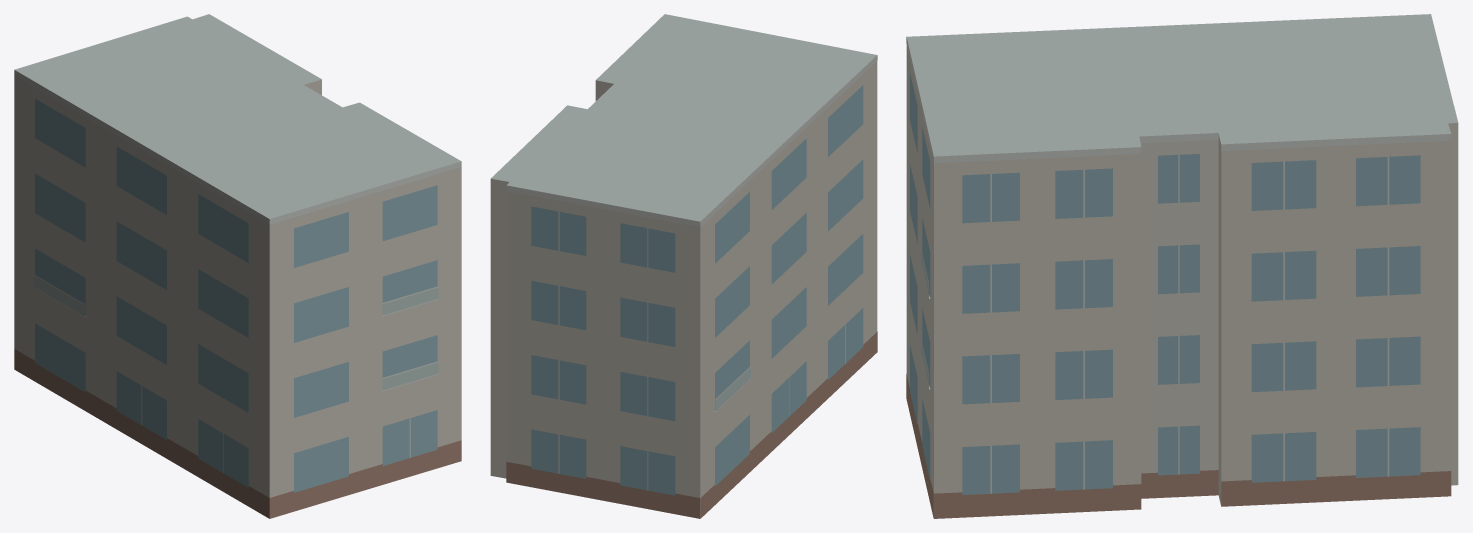
The model's file is survey-upis-32622038.glb.
3 views of the same model, side by side, from view 1: azimuth 30°, elevation 25°; view 2: azimuth 150°, elevation 25°; view 3: azimuth 270°, elevation 25° (orthographic). The views are drawn at different scales.
Visible parts, largest first — view 1: survey-upis-32622038.tmp; view 2: survey-upis-32622038.tmp; view 3: survey-upis-32622038.tmp.
Part boxes in pixels (box(x1,y1,x2,y2)): survey-upis-32622038.tmp: box(14, 14, 461, 518); survey-upis-32622038.tmp: box(490, 14, 877, 518); survey-upis-32622038.tmp: box(906, 14, 1458, 518).
Size of the model in its own units: 10.94 by 12.95 by 17.89.
